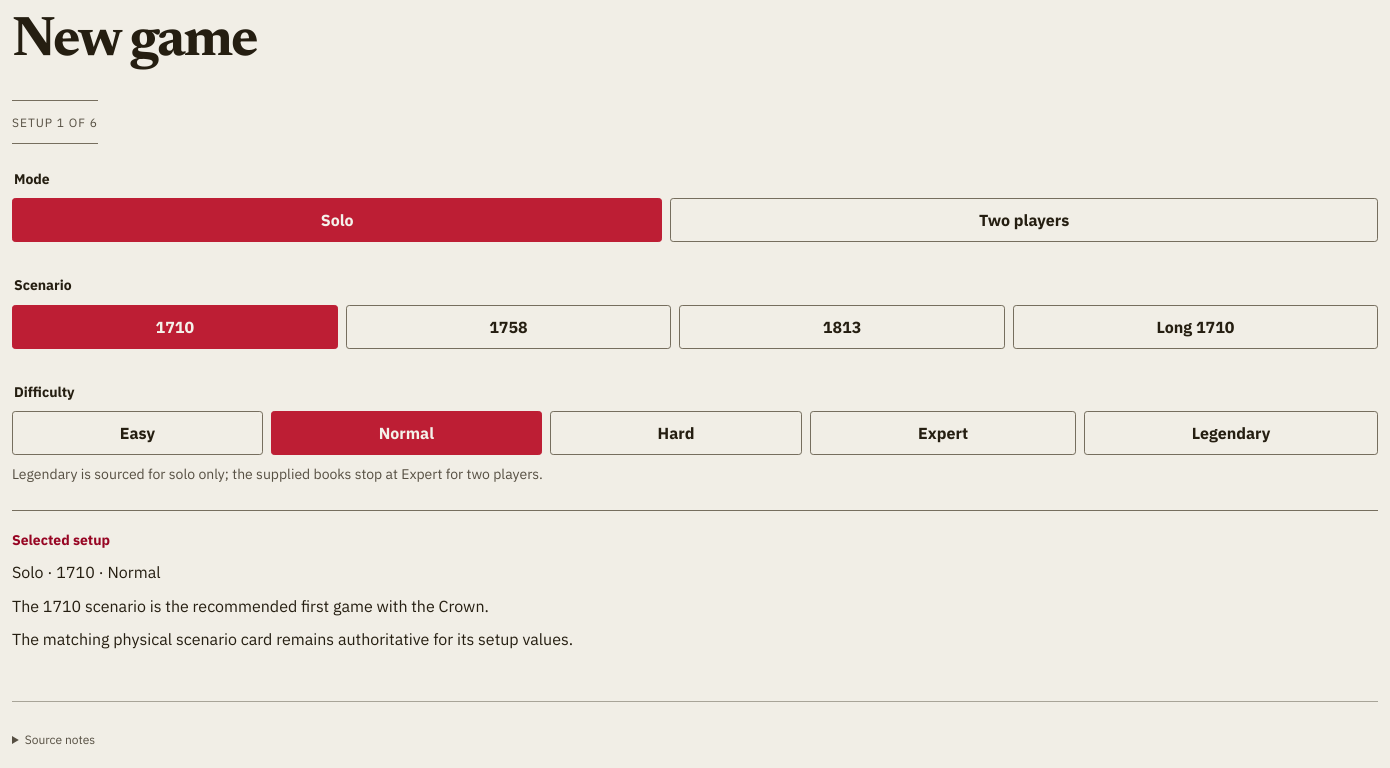
source-faithful setup phases › keeps configuration consequences synchronized with the selected scenario
The image size is (1390, 768).
What coordinates should you click on to do the following:
click the button "1813"
I would click on:
 (842, 327)
Its box is left=679, top=305, right=1005, bottom=349.
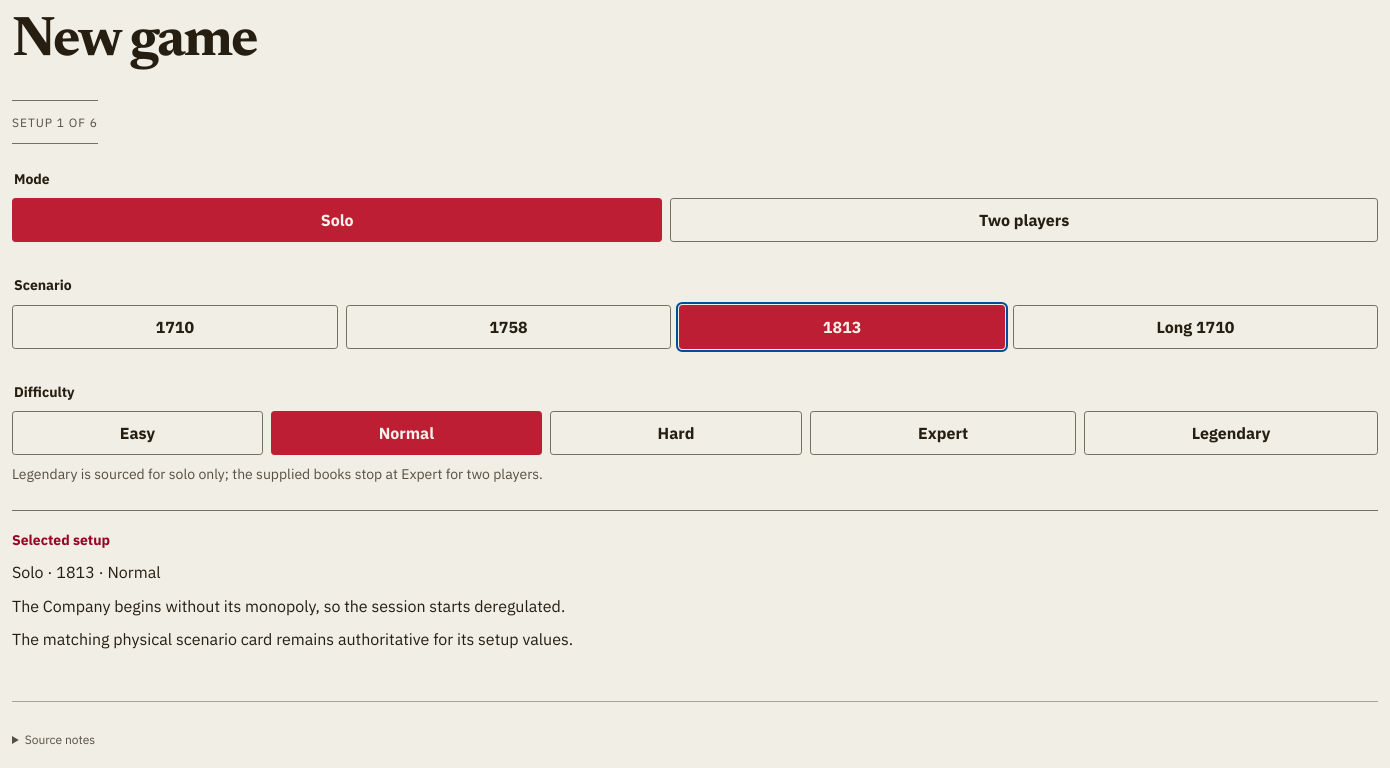
Check: the text "session starts deregulated" is shown, box left=12, top=596, right=565, bottom=616
What coordinates should you click on to do the following:
click the button "Two players"
I would click on:
 (1024, 220)
Its box is left=670, top=198, right=1378, bottom=242.
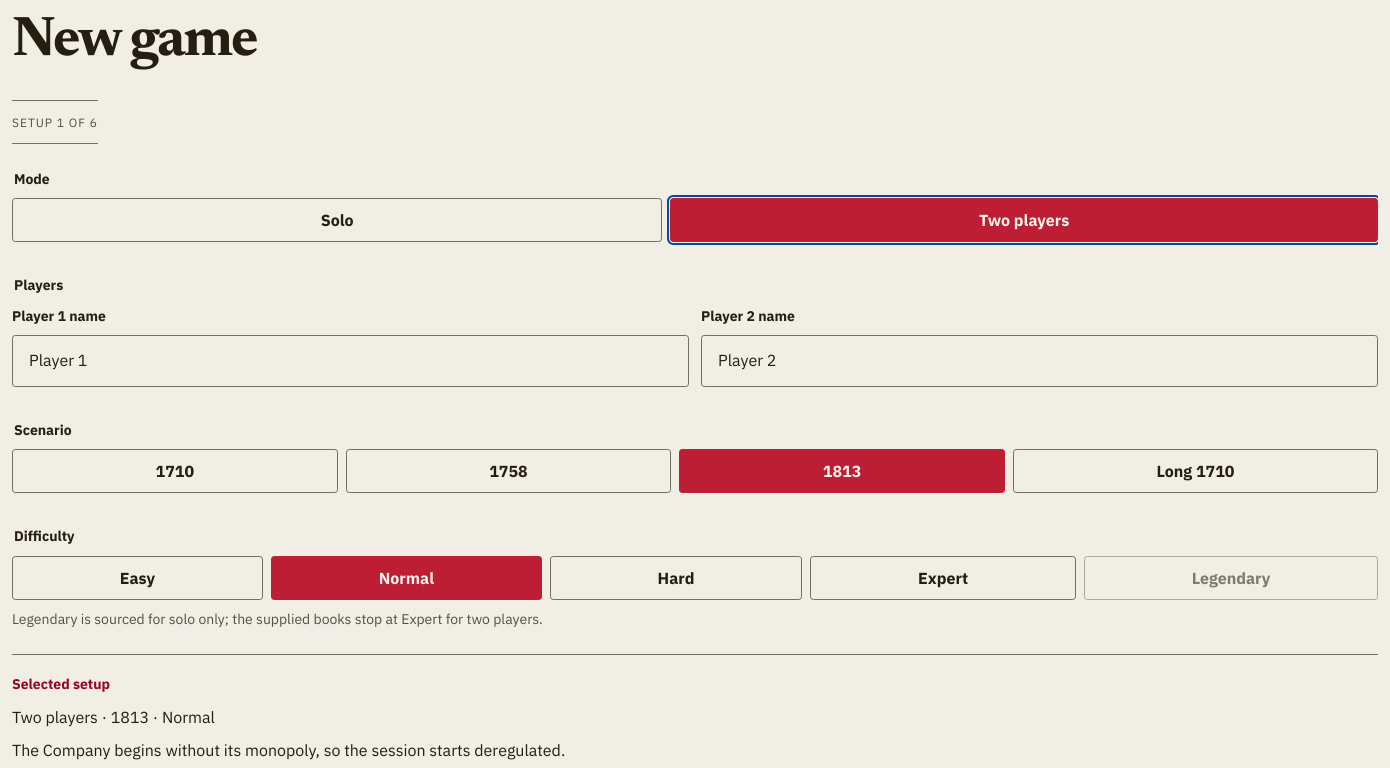
Check: the button "Legendary" is disabled, box left=1084, top=556, right=1378, bottom=600
